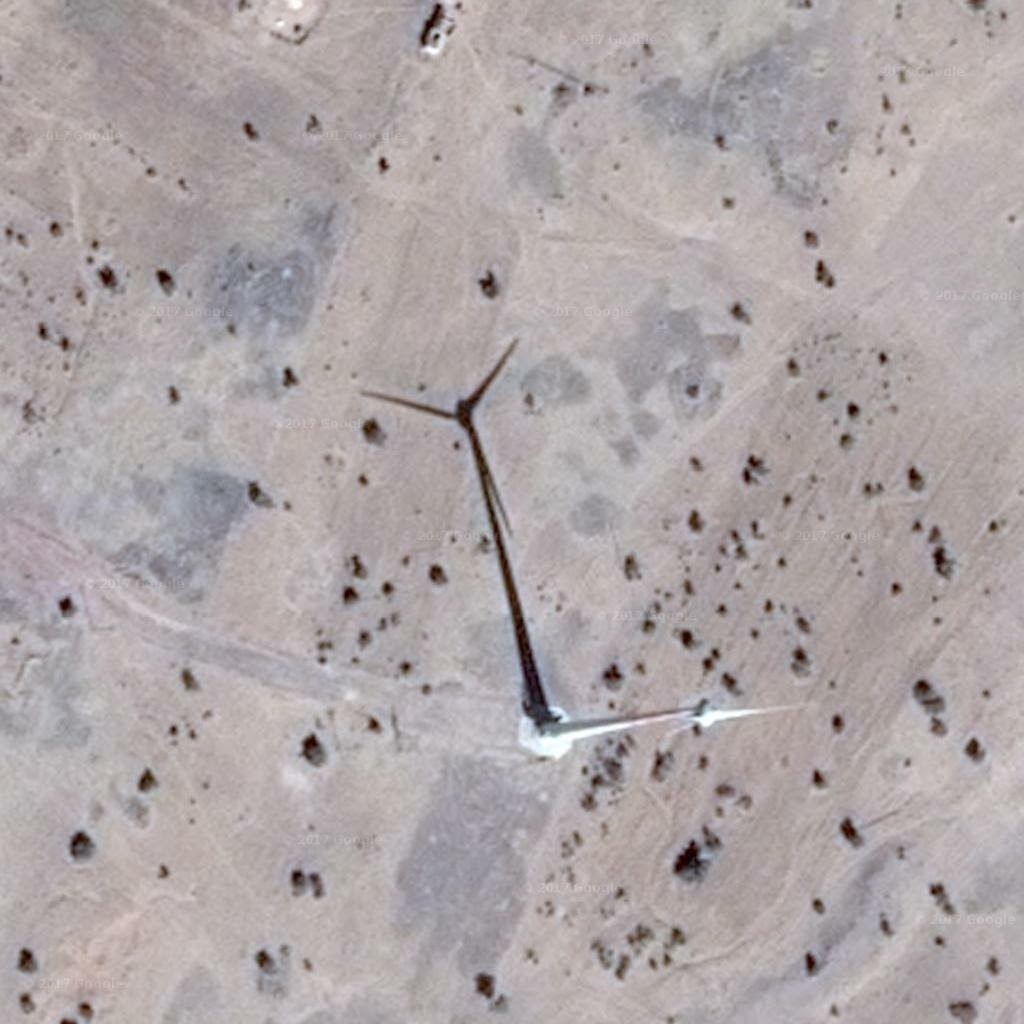Windmill: (356, 351, 562, 710)
